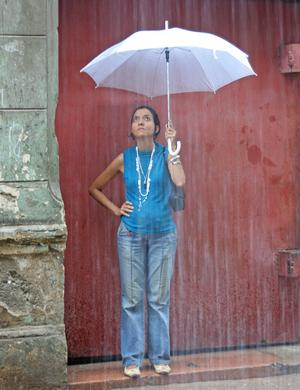person: (89, 107, 185, 378)
